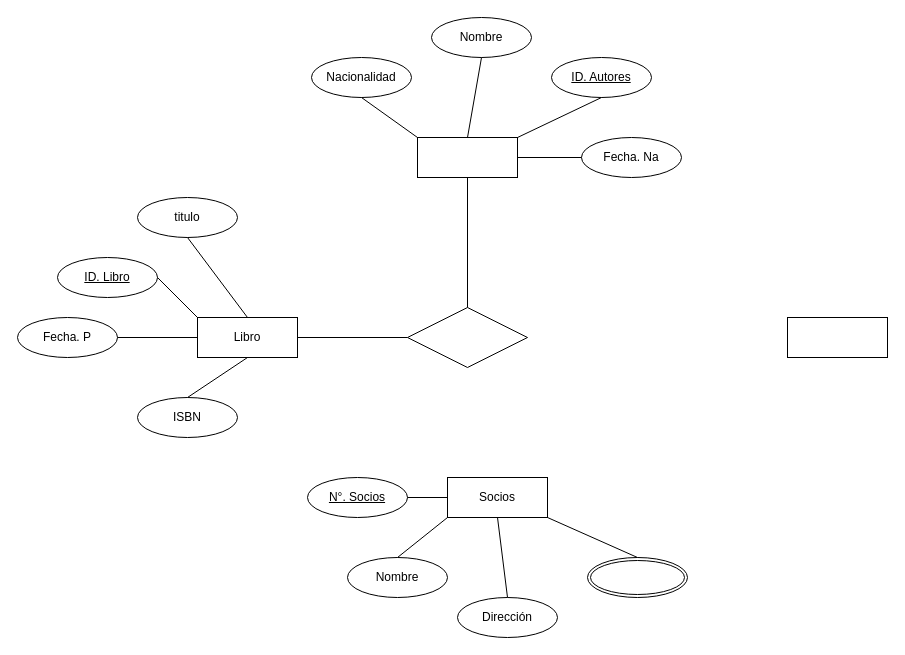
This 905x655 diagram has some shape labels left out. Each missing label, with the centre of its shape:
Autores: (x=467, y=157)
Prestamo: (x=837, y=337)
Telefono: (x=637, y=577)
Tiene: (x=467, y=337)
